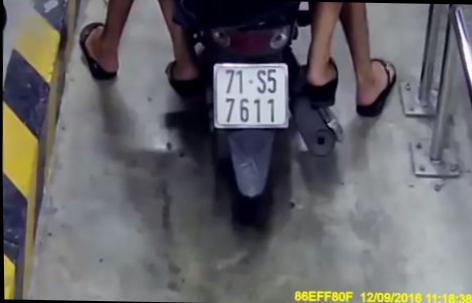LP: (211, 60, 290, 130)
